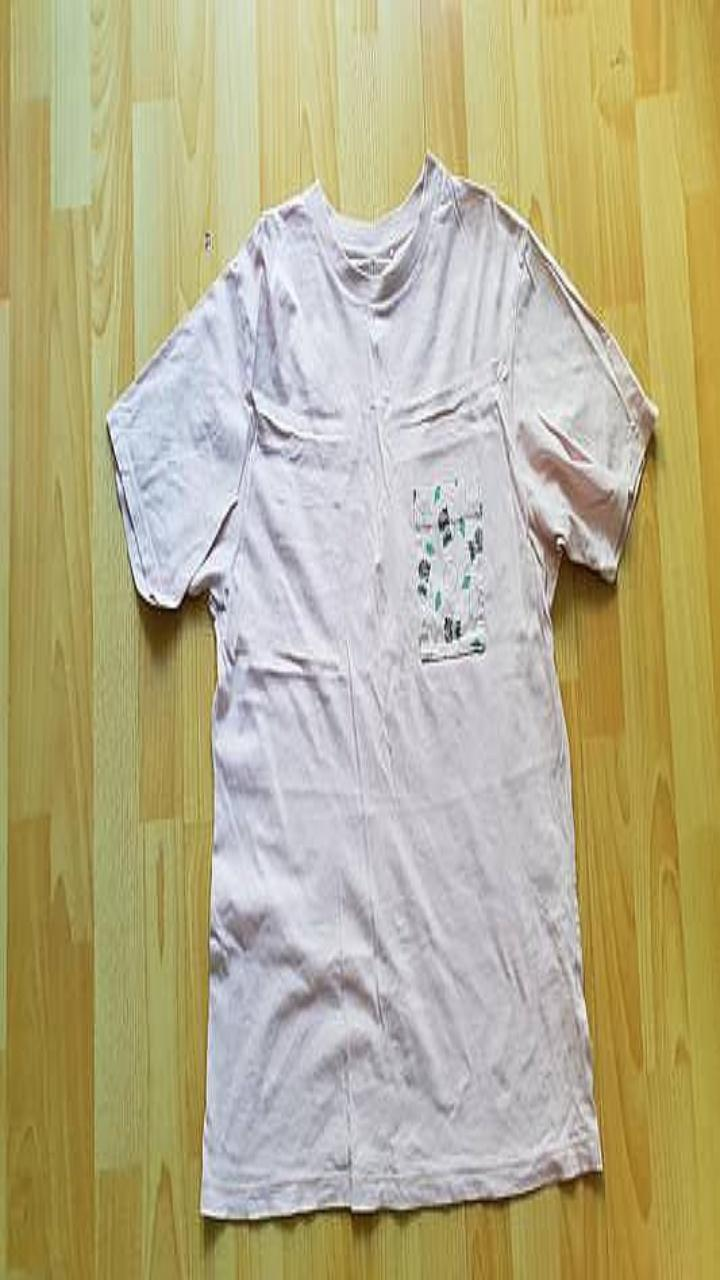T-Shirt: (107, 151, 657, 1217)
